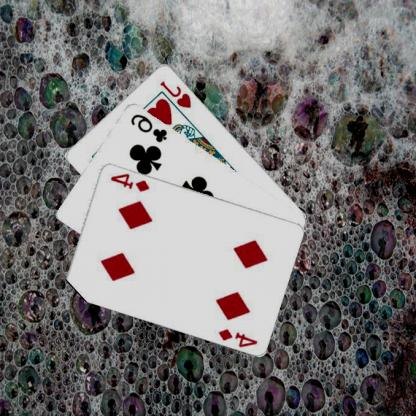4D: (109, 170, 152, 192), (217, 326, 260, 348)
6C: (130, 110, 170, 144)
JH: (159, 78, 194, 109)
